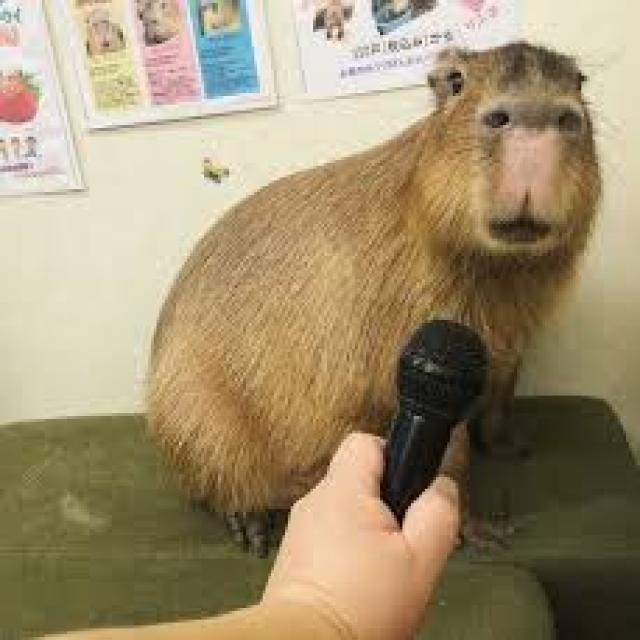capy: (144, 40, 602, 555)
